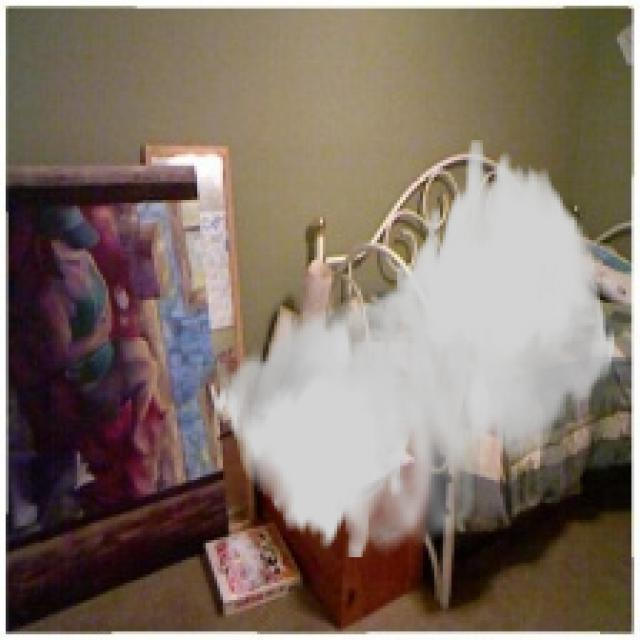Smoke: (212, 140, 617, 560)
